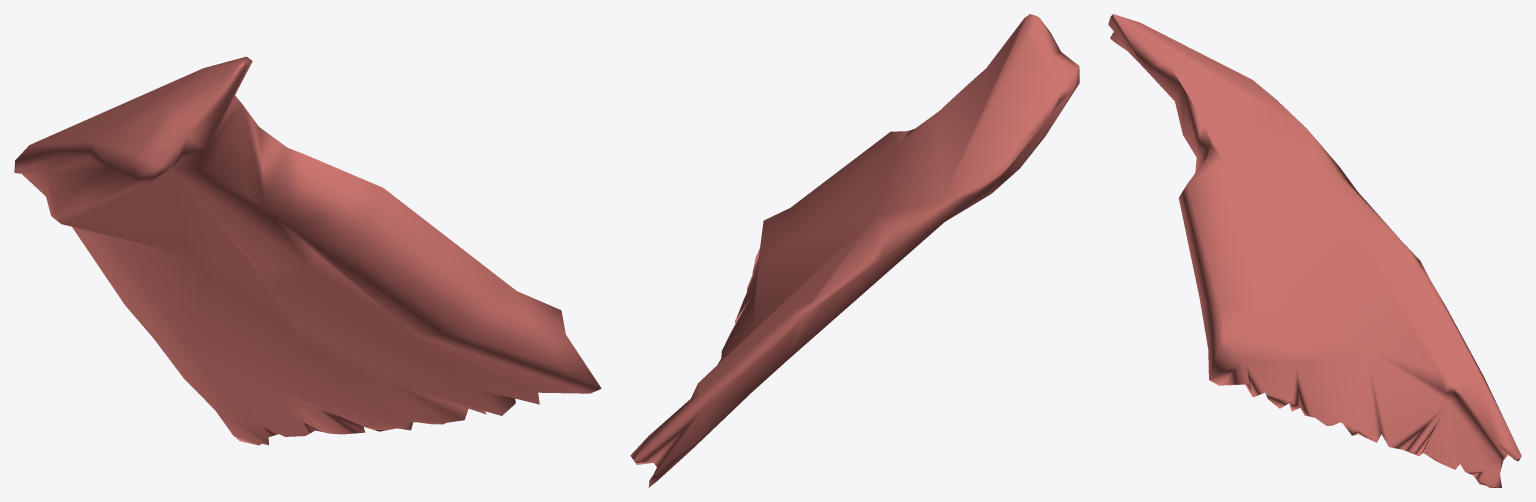
The picture shows the model from 3 angles, left to right: view 1: azimuth 30°, elevation 25°; view 2: azimuth 150°, elevation 25°; view 3: azimuth 270°, elevation 25°; orthographic projection. The views are drawn at different scales.
Visible parts, largest first — view 1: 右侧翼外肌下头; view 2: 右侧翼外肌下头; view 3: 右侧翼外肌下头.
Part boxes in pixels (x1,y1,x2,y2): 右侧翼外肌下头: [14, 56, 601, 445]; 右侧翼外肌下头: [630, 14, 1079, 487]; 右侧翼外肌下头: [1108, 14, 1521, 487].
Size of the model in its own units: 0.026 by 0.0337 by 0.0332.
